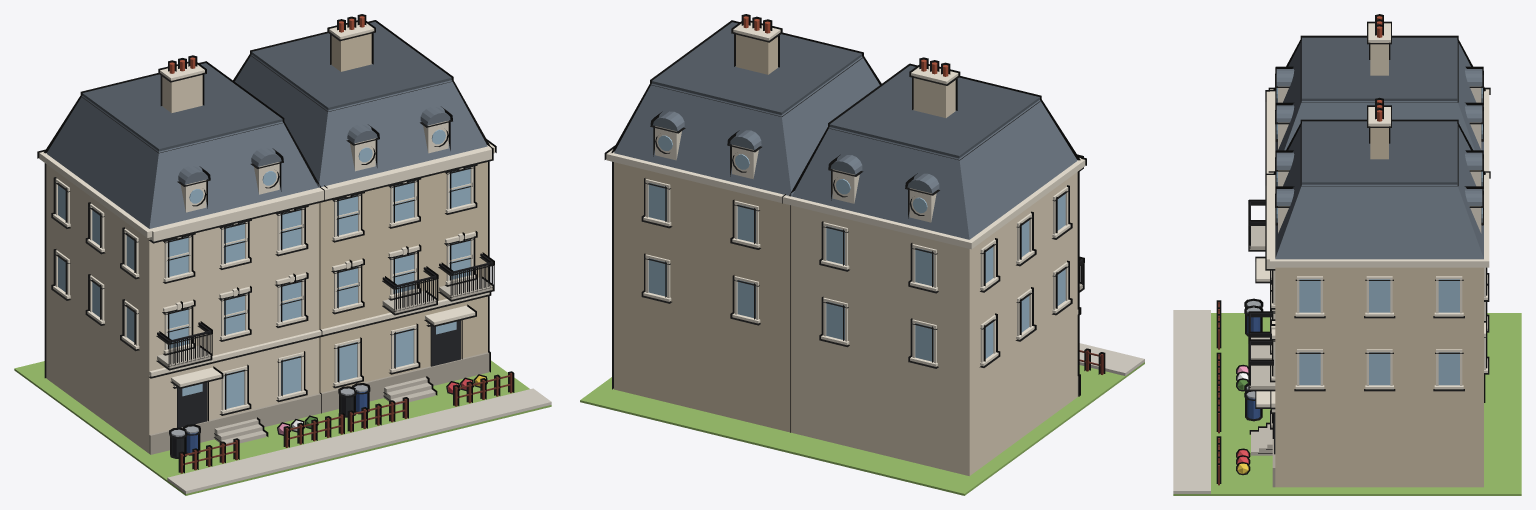
Rendered from Konut_ref_eski_sehir.fbx.
3 renders of one model, left to right at view 1: azimuth 30°, elevation 25°; view 2: azimuth 150°, elevation 25°; view 3: azimuth 270°, elevation 25°, orthographic. The views are drawn at different scales.
Parts seen in each view (by area): view 1: Konut_ref_eski_sehir; view 2: Konut_ref_eski_sehir; view 3: Konut_ref_eski_sehir.
Part boxes in pixels (x1,y1,x2,y2): Konut_ref_eski_sehir: (14,14,551,495); Konut_ref_eski_sehir: (580,14,1144,495); Konut_ref_eski_sehir: (1173,14,1521,495).
Size of the model in its own units: 16 by 14.11 by 13.
